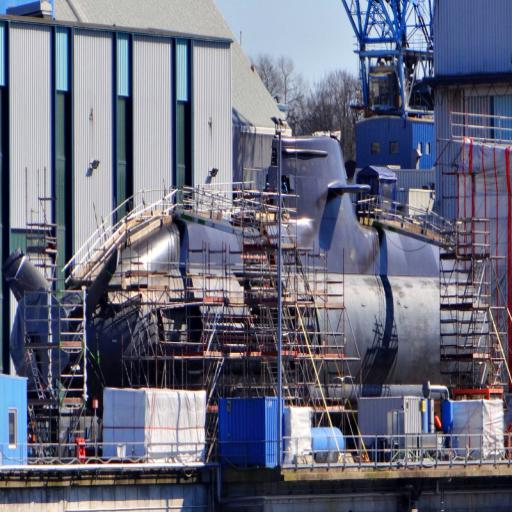submarine: (6, 138, 495, 384)
